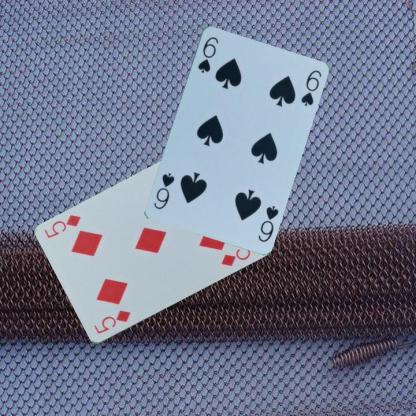5d: (90, 307, 132, 335)
6s: (194, 33, 219, 74), (255, 203, 280, 243)
